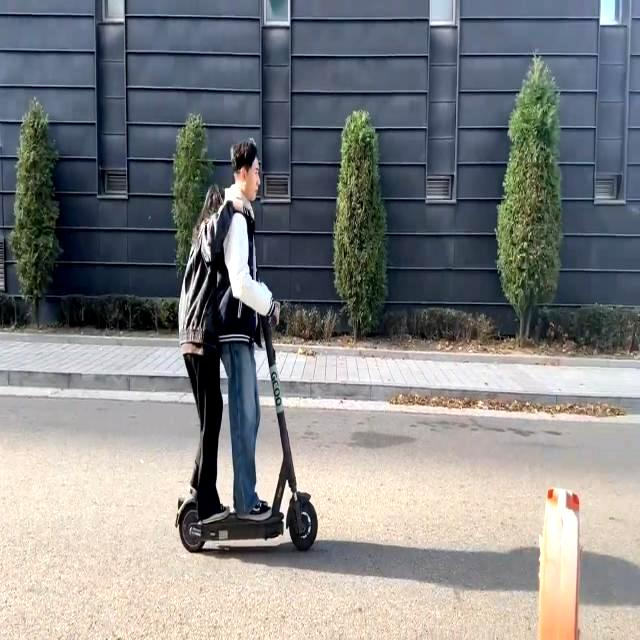bare_head: (226, 138, 267, 202), (184, 189, 228, 236)
human: (203, 141, 279, 523), (169, 183, 232, 527)
kickboard: (164, 481, 327, 569)
